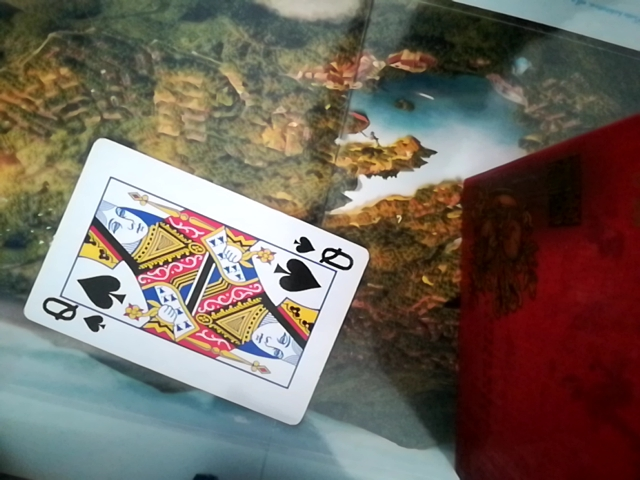ht q: (19, 140, 364, 427)
